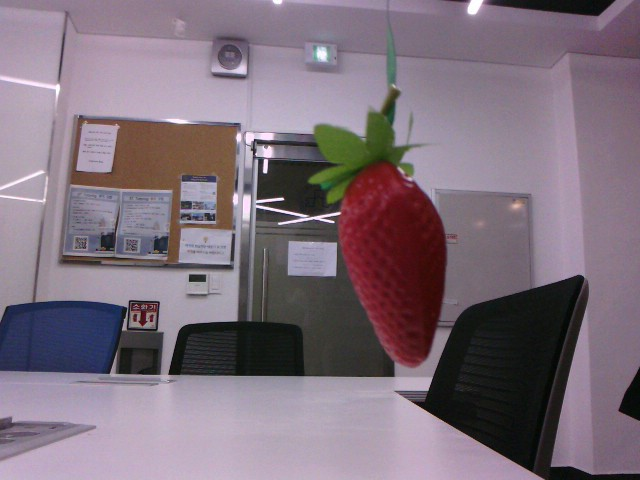strawberry: (325, 137, 462, 367)
